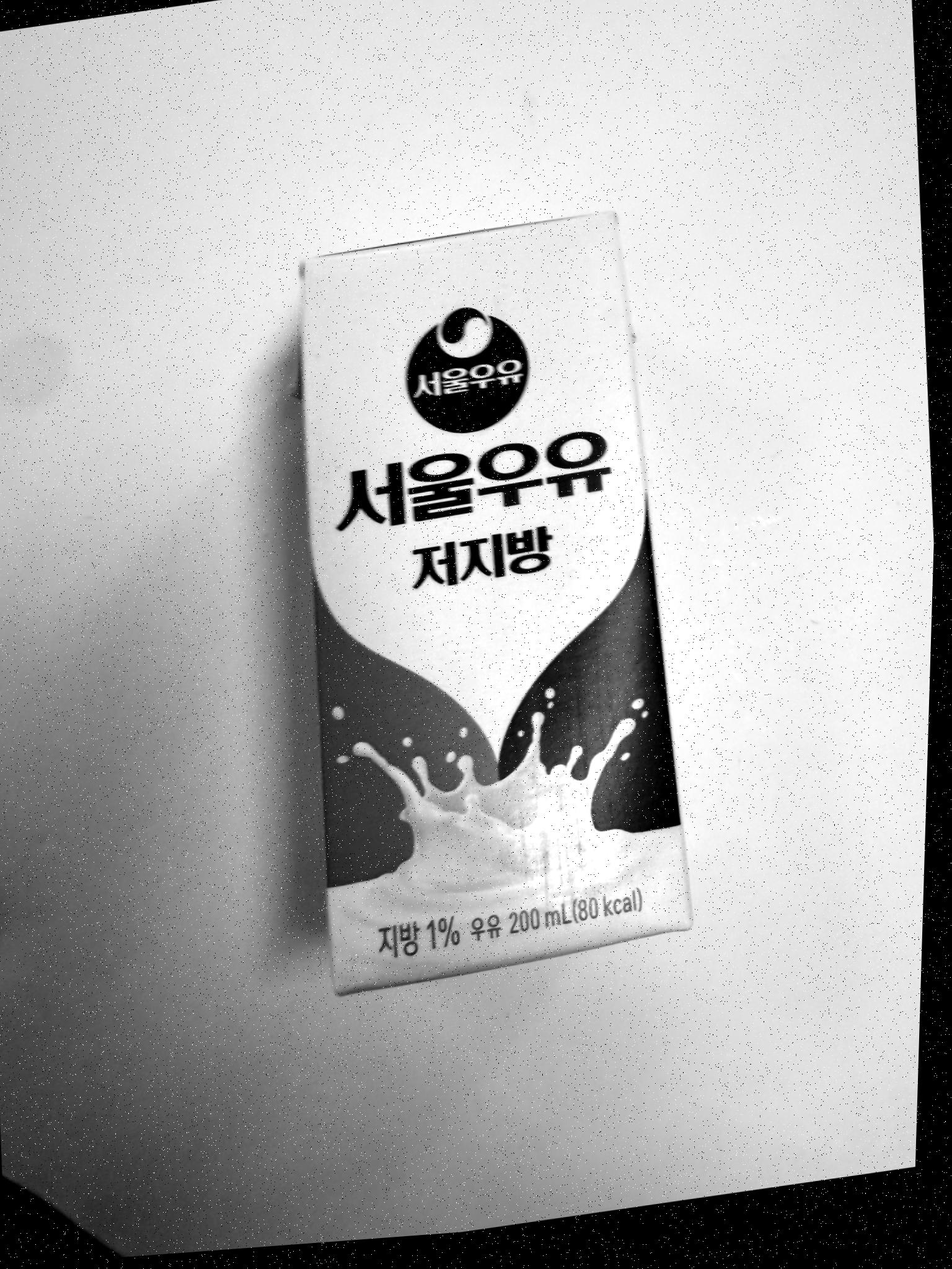milk_blue: (302, 213, 691, 994)
